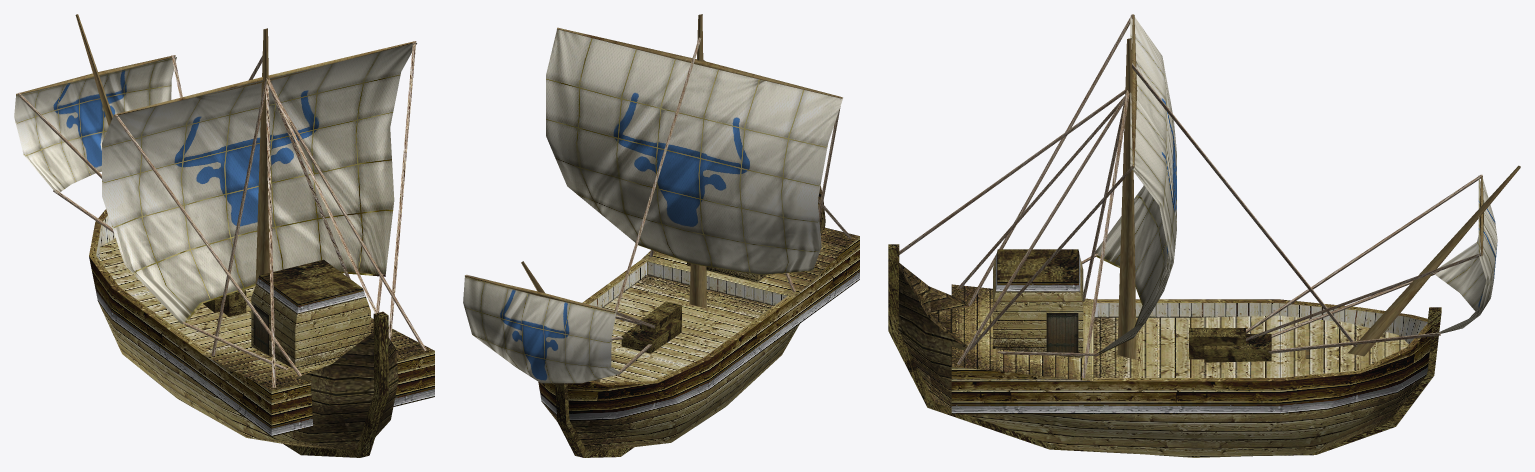
The model's file is iber_merchant_ship.glb.
The picture shows the model from 3 angles, left to right: view 1: azimuth 30°, elevation 25°; view 2: azimuth 150°, elevation 25°; view 3: azimuth 270°, elevation 25°; orthographic projection. The views are drawn at different scales.
Visible parts, largest first — view 1: iber_merchant_ship_part1, iber_merchant_ship_part0; view 2: iber_merchant_ship_part1, iber_merchant_ship_part0; view 3: iber_merchant_ship_part0, iber_merchant_ship_part1.
Boxes of the visible parts, x1,y1,x2,y2 form: iber_merchant_ship_part1: [14, 14, 426, 387]; iber_merchant_ship_part0: [89, 209, 434, 457]; iber_merchant_ship_part1: [463, 14, 851, 383]; iber_merchant_ship_part0: [538, 186, 859, 457]; iber_merchant_ship_part0: [888, 244, 1441, 457]; iber_merchant_ship_part1: [899, 14, 1520, 378].
Size of the model in its own units: 3.12 by 3.99 by 5.5.
2 materials, 2 textured.
